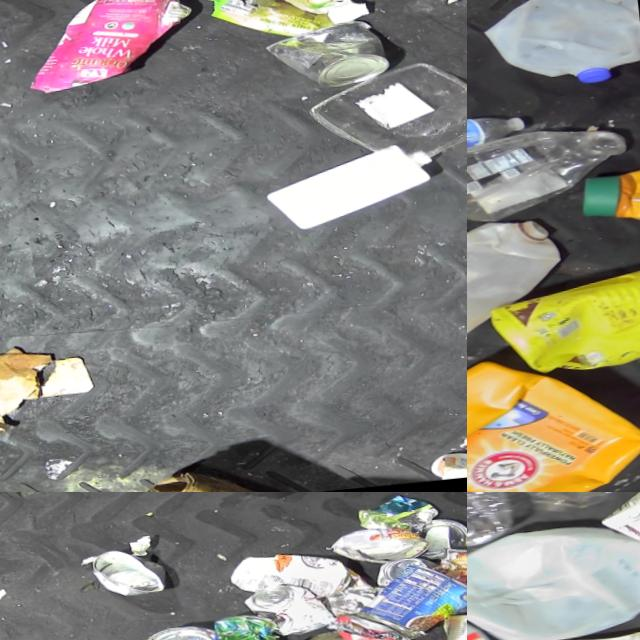can: (261, 15, 390, 92), (350, 556, 467, 640), (241, 578, 337, 640), (328, 521, 431, 567), (85, 543, 166, 600), (306, 619, 435, 640), (416, 513, 467, 558), (210, 610, 283, 640), (373, 554, 440, 585), (439, 541, 467, 614), (125, 619, 218, 640), (431, 607, 467, 640)
milk_jug: (467, 512, 640, 640), (262, 135, 442, 232), (477, 0, 640, 93), (467, 211, 569, 343)
non_white_jug: (467, 339, 640, 492), (482, 259, 640, 379)
plastic_bottle: (467, 107, 527, 166)
